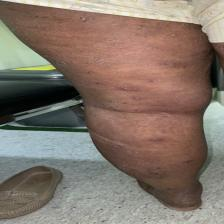DA: (80, 55, 209, 94), (114, 130, 202, 178)
